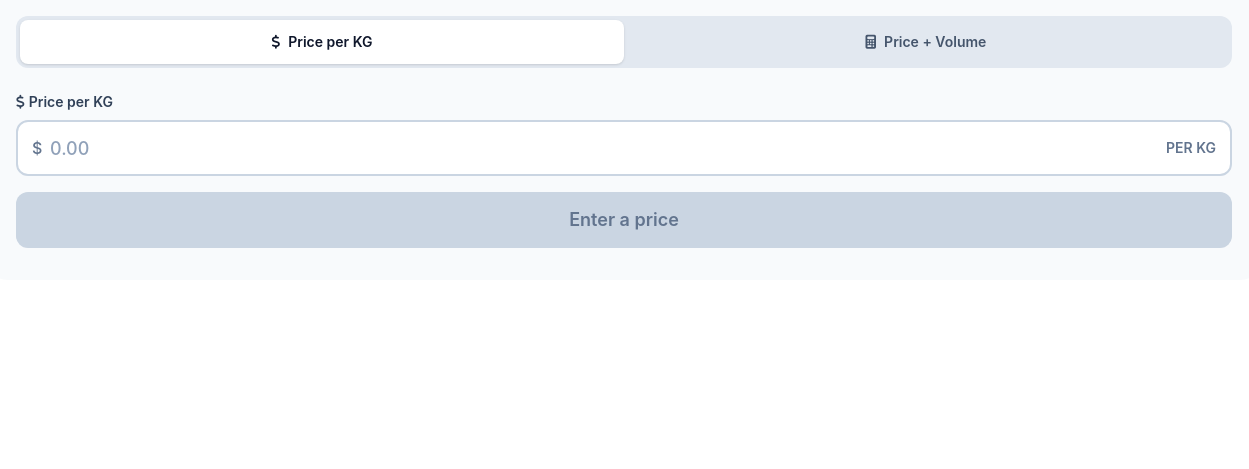
Scenario: PriceCalculator Component › calculates and shows price per unit in price-volume mode
The image size is (1249, 469).
Click the button "Price + Volume": (926, 42) [624,20,1228,64]
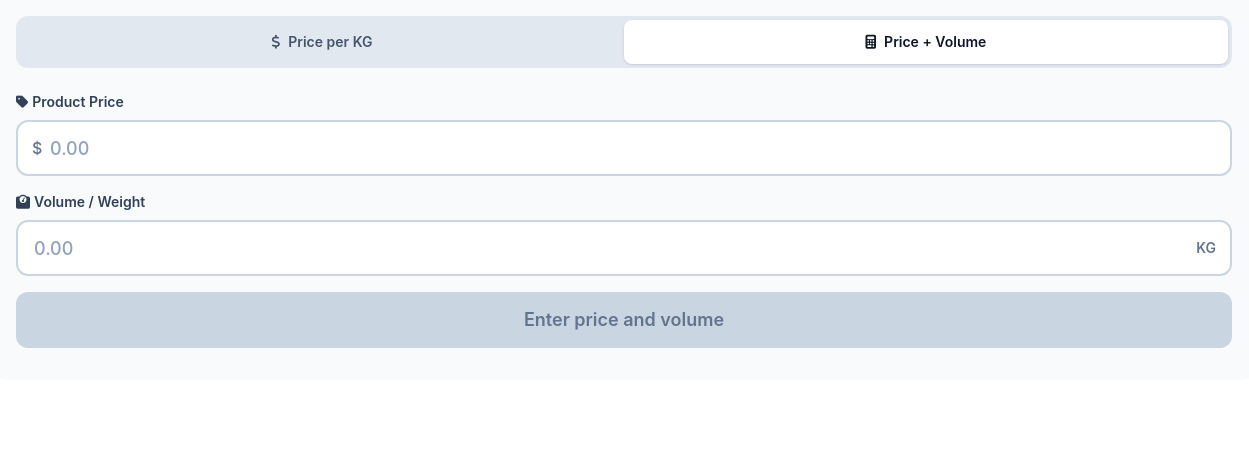
In the number field labelled "Product Price": (624, 148) [16,120,1232,176], type "10"
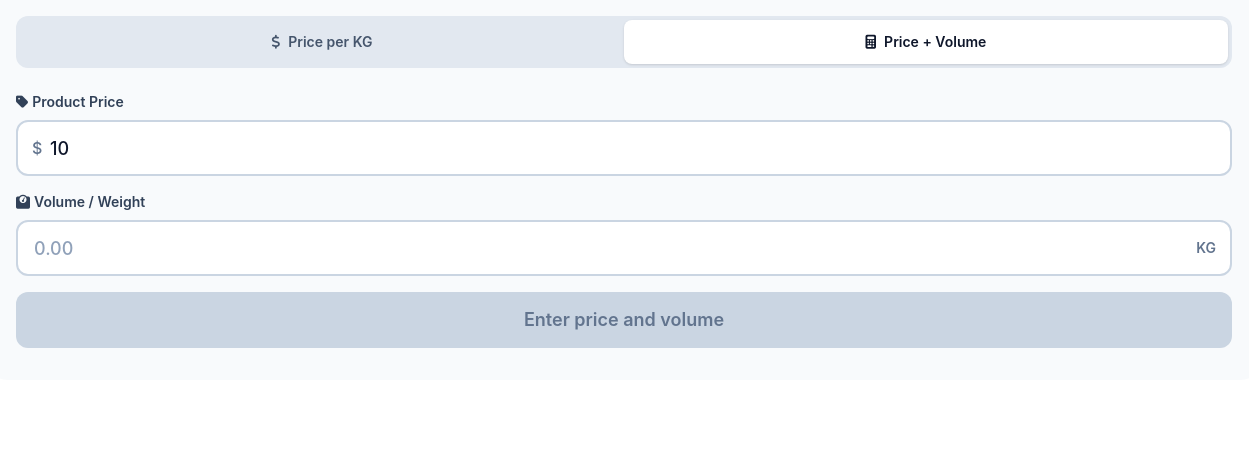
In the number field labelled "Volume / Weight": (624, 248) [16,220,1232,276], type "2"
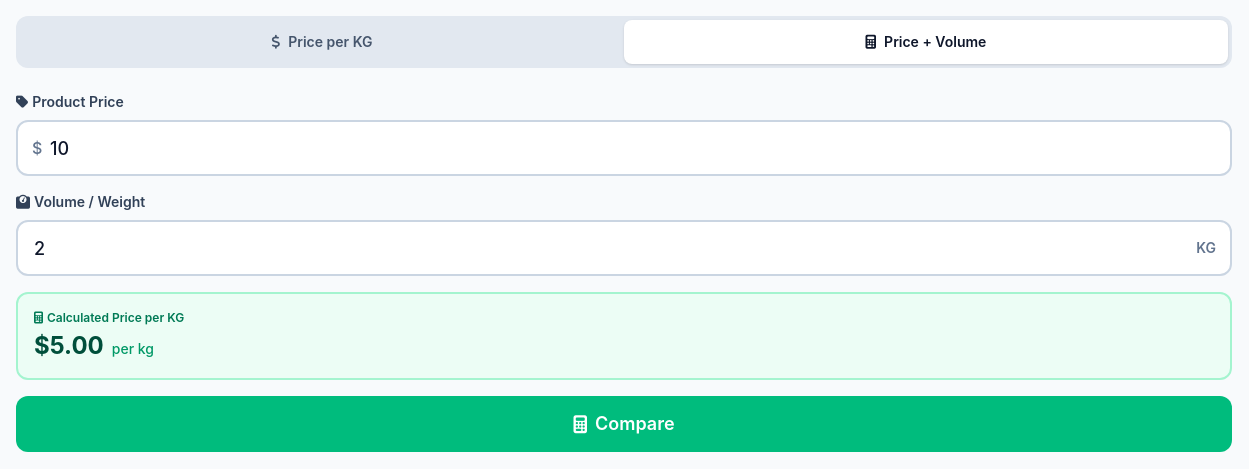
Result: the text "Calculated Price per KG" is shown at [34,310,184,325]
Result: the text "$5.00per kg" is shown at [34,331,154,360]
